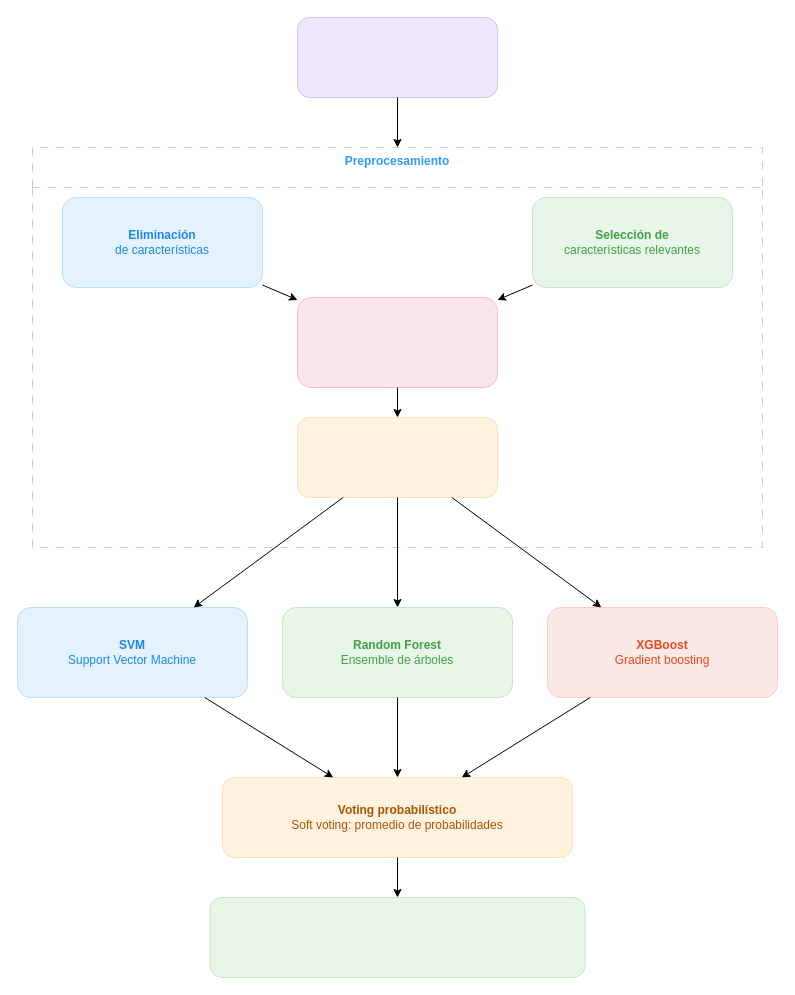
This 795x995 diagram has some shape labels left out. The centre of each missing label's shape, as x and y in pixels:
"Datos de entrada Features para predecir DX" belongs at [397,57].
"Imputación con Random Forest" belongs at [397,457].
"Ingeniería de atributos" belongs at [397,342].
"Predicción final: DX Diagnóstico del ensemble" belongs at [397,937].
